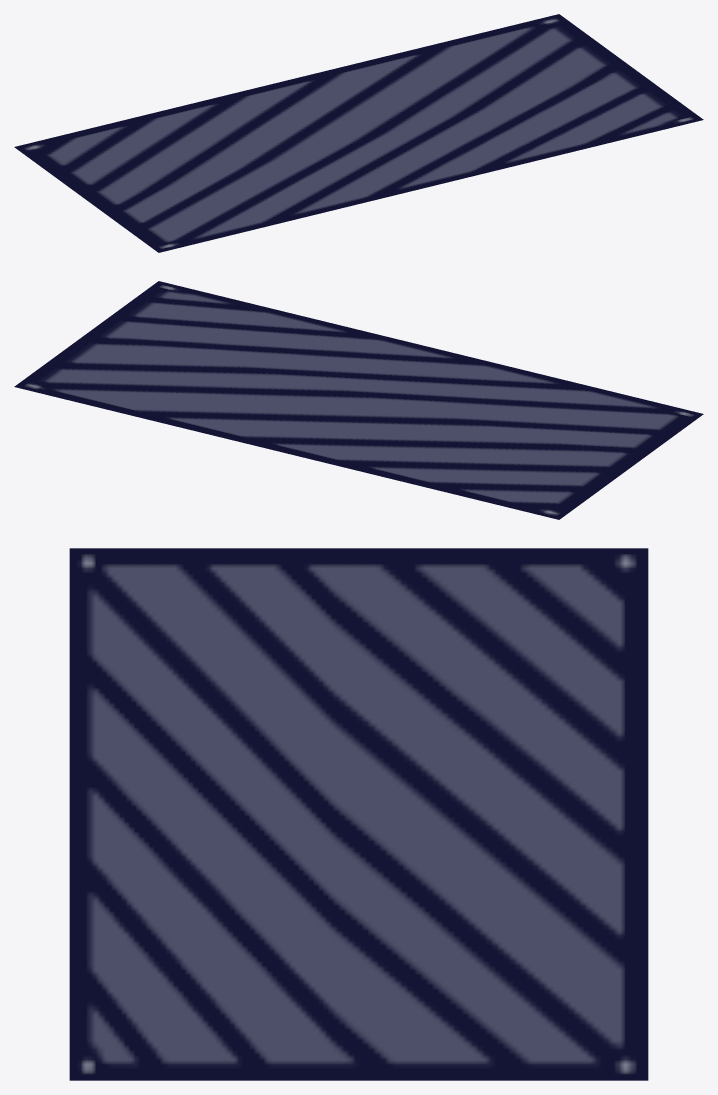
File: floor_diagonal_half.glb
The picture shows the model from 3 angles, top to bottom: view 1: azimuth 30°, elevation 25°; view 2: azimuth 150°, elevation 25°; view 3: azimuth 270°, elevation 25°; orthographic projection. The views are drawn at different scales.
Parts seen in each view (by area): view 1: structural_platform-B; view 2: structural_platform-B; view 3: structural_platform-B.
Part boxes in pixels (<box>): structural_platform-B: <box>14,14,703,252</box>; structural_platform-B: <box>14,281,703,519</box>; structural_platform-B: <box>69,548,648,1080</box>.
Bounding box in the file's own units: 2 × 0 × 0.9194.
Materials: 1 (1 with a texture image).
